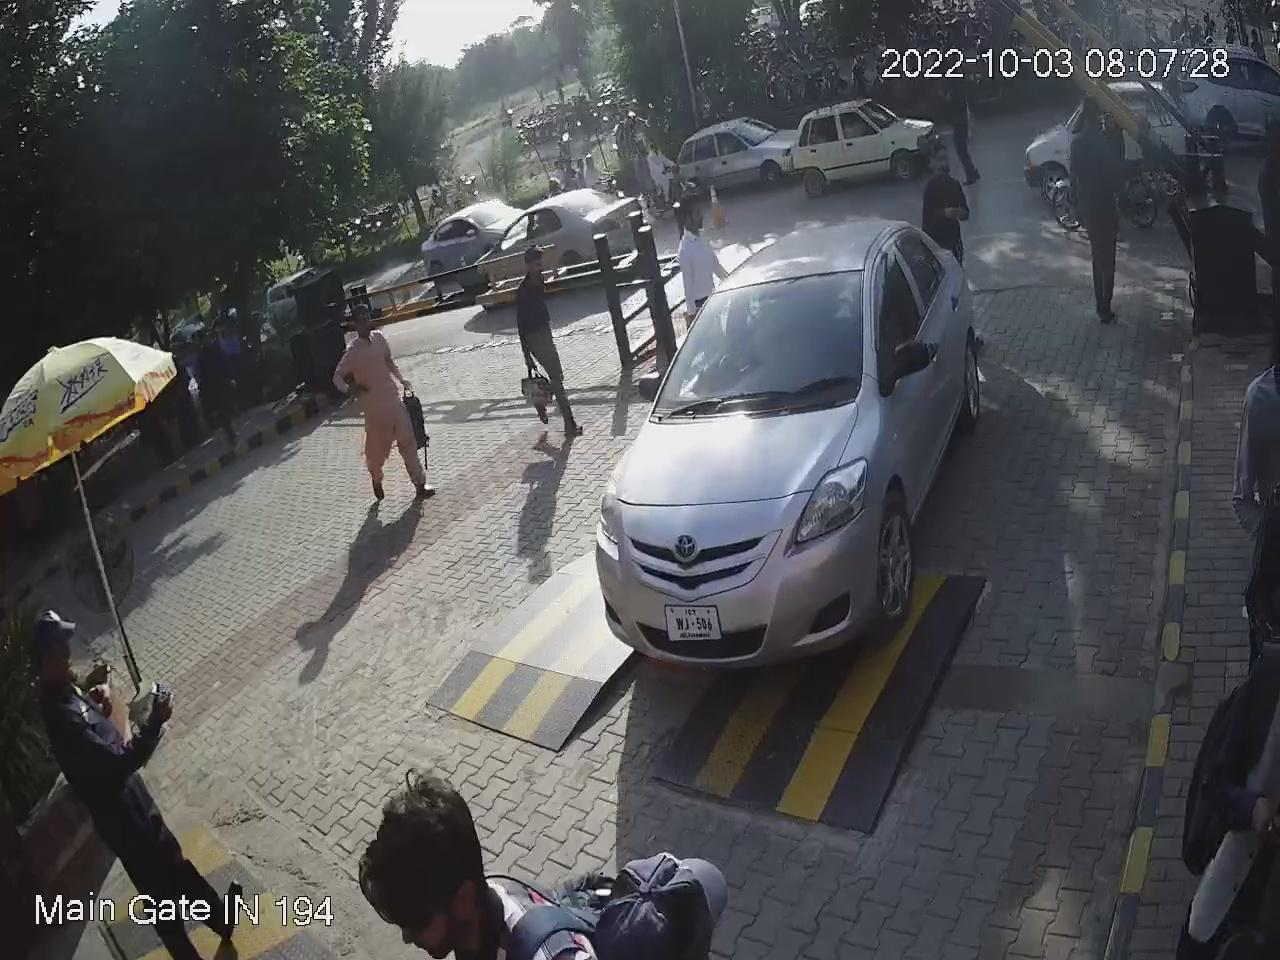windshield: (648, 257, 863, 419)
